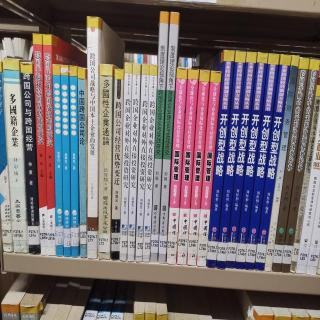book-spine: (268, 56, 311, 274), (251, 54, 293, 273), (279, 59, 320, 274), (232, 53, 270, 271), (263, 56, 301, 272), (223, 49, 258, 270), (244, 53, 279, 271), (203, 49, 237, 268), (216, 50, 246, 271), (289, 68, 320, 274), (194, 71, 223, 269), (1, 57, 29, 255), (147, 11, 169, 263), (158, 11, 179, 264), (174, 68, 200, 266), (165, 67, 188, 264), (188, 70, 209, 266), (20, 61, 41, 256), (140, 64, 159, 262), (86, 17, 101, 260), (32, 30, 48, 256), (39, 33, 55, 257), (96, 62, 113, 262), (125, 62, 142, 262), (135, 63, 149, 263), (110, 69, 124, 260), (119, 62, 132, 261), (59, 64, 71, 259), (68, 64, 80, 259), (52, 64, 62, 259), (77, 71, 87, 258)
